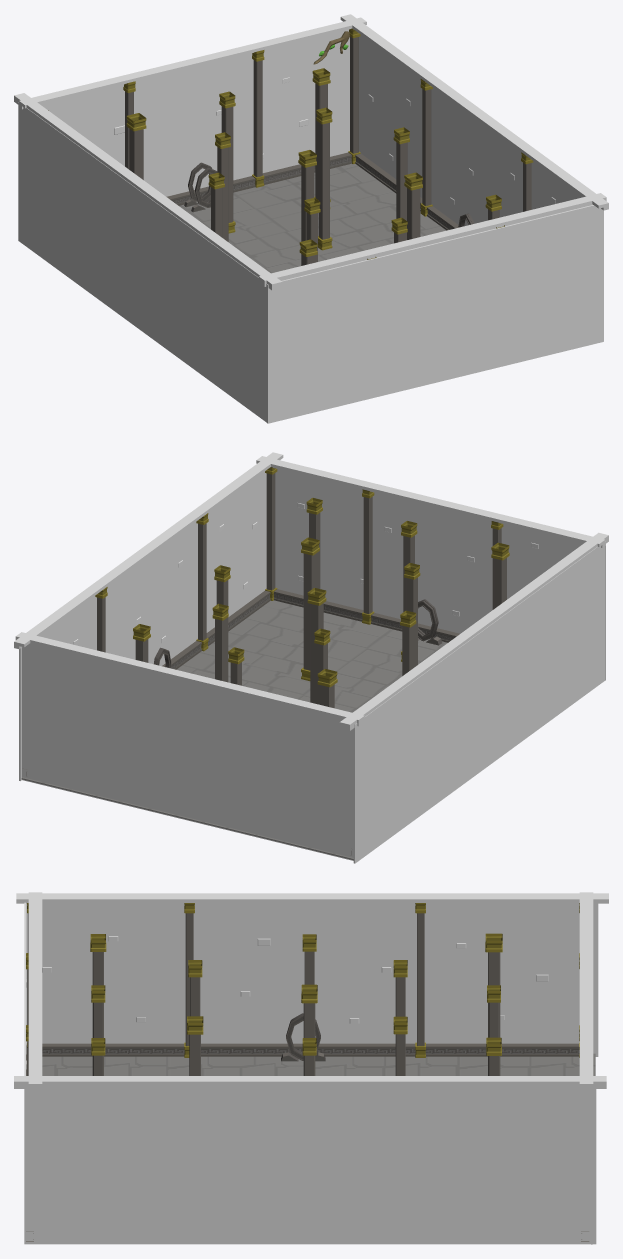
3 renders of one model, top to bottom at view 1: azimuth 30°, elevation 25°; view 2: azimuth 150°, elevation 25°; view 3: azimuth 270°, elevation 25°, orthographic. The views are drawn at different scales.
Parts seen in each view (by area): view 1: object 1, Object087, Box074, 1, Object085; view 2: object 1, Object087, Box074, 1, Object085, portal006; view 3: object 1, Box074, Object087, 1, Object085, 벽돌벽010, portal006.
Boxes of the visible parts, box(x1,y1,x2,y2) form: object 1: box(18, 29, 603, 423); Object087: box(123, 28, 533, 265); Box074: box(14, 14, 608, 290); 1: box(179, 163, 446, 273); Object085: box(166, 152, 458, 230); object 1: box(19, 469, 605, 863); Object087: box(95, 467, 509, 708); Box074: box(14, 452, 608, 730); 1: box(21, 600, 447, 859); Object085: box(22, 589, 459, 855); portal006: box(156, 600, 440, 668); object 1: box(24, 902, 598, 1244); Box074: box(14, 892, 608, 1091); Object087: box(26, 903, 579, 1075); 1: box(42, 1053, 595, 1075); Object085: box(26, 1043, 589, 1241); 벽돌벽010: box(26, 936, 548, 1069); portal006: box(281, 1014, 325, 1061).
Size of the model in its own units: 3117 by 1235 by 4088.
